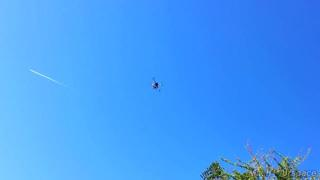UAV: (150, 78, 163, 92)
